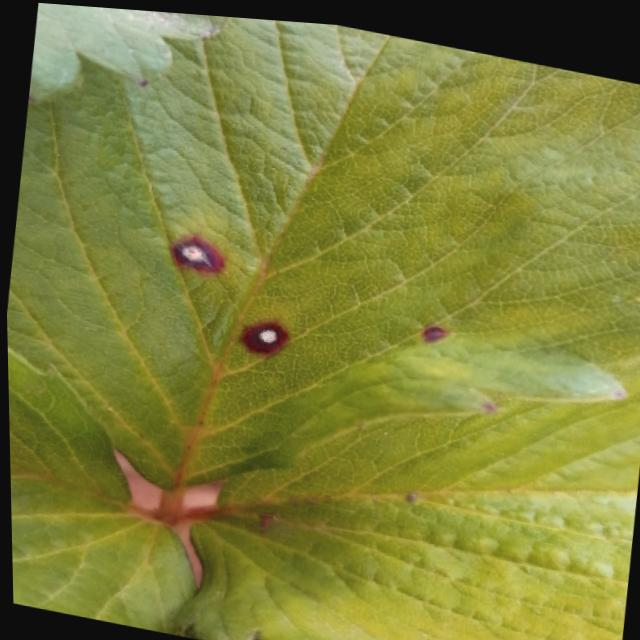Leaf Spot: (5, 14, 640, 494), (167, 350, 640, 640)
